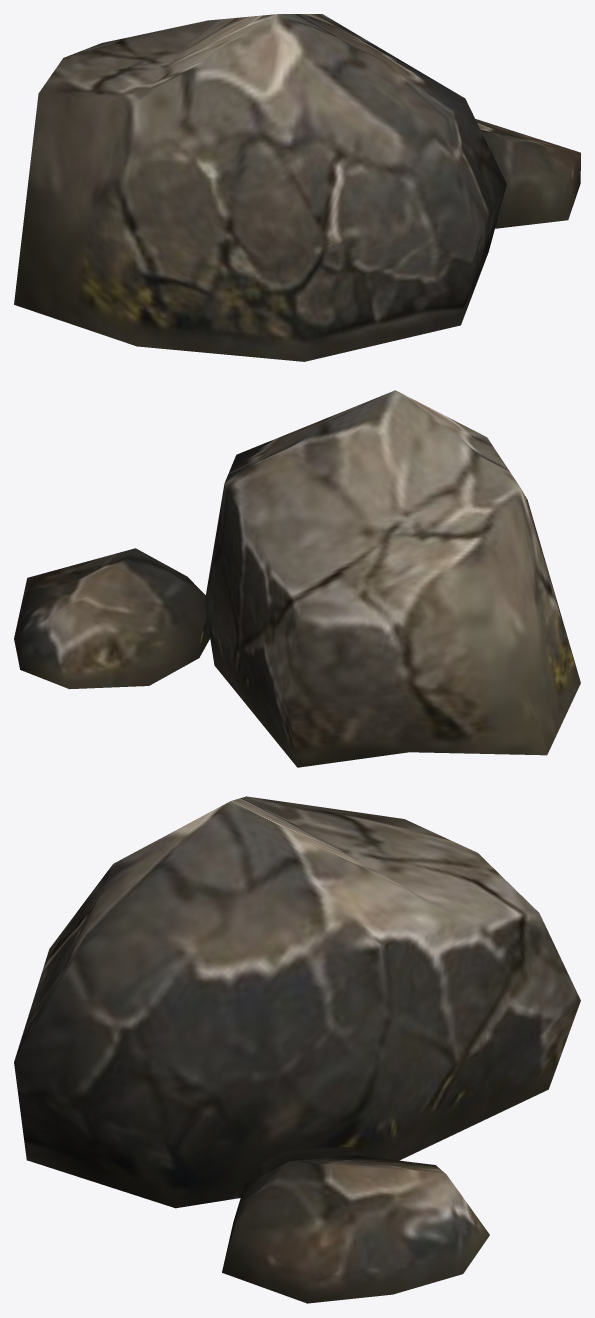
The model's file is legacy_moor-rocks_low.glb.
The picture shows the model from 3 angles, top to bottom: view 1: azimuth 30°, elevation 25°; view 2: azimuth 150°, elevation 25°; view 3: azimuth 270°, elevation 25°; orthographic projection. The views are drawn at different scales.
Parts seen in each view (by area): view 1: L_moor-rocks_low; view 2: L_moor-rocks_low; view 3: L_moor-rocks_low.
Part boxes in pixels (x1,y1,x2,y2): L_moor-rocks_low: [14, 14, 580, 361]; L_moor-rocks_low: [14, 390, 580, 767]; L_moor-rocks_low: [14, 796, 580, 1303].
Bounding box in the file's own units: 1.73 × 0.8428 × 1.36.
Materials: 1 (1 with a texture image).
